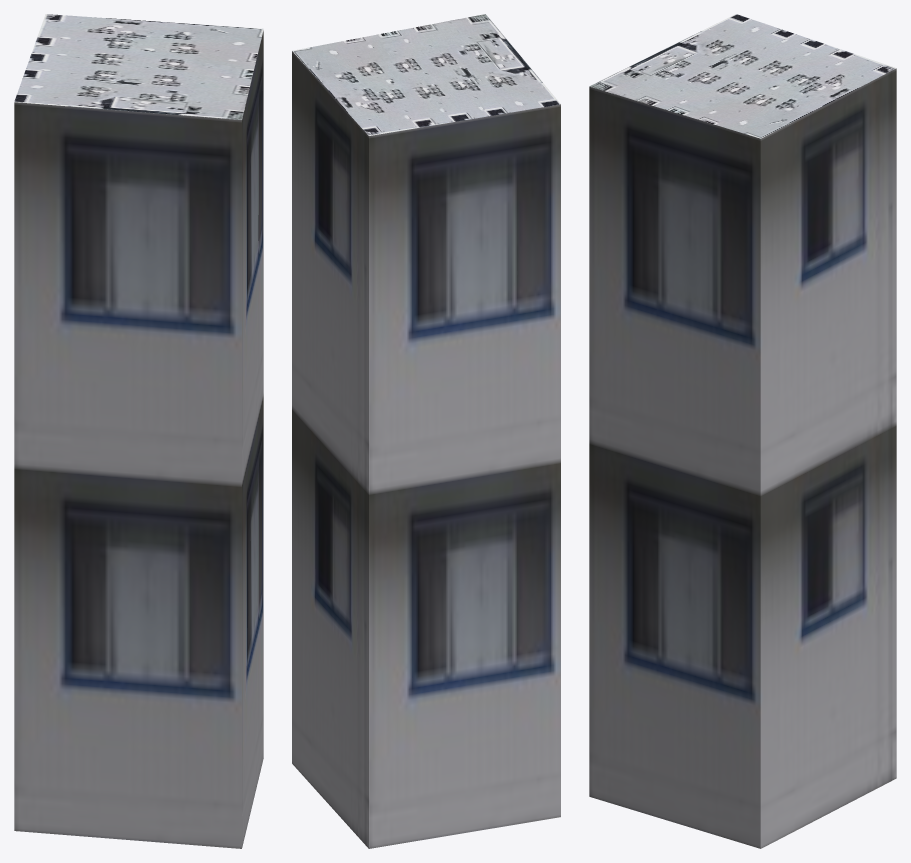
File: ResTex__2740.fbx
3 renders of one model, left to right at view 1: azimuth 30°, elevation 25°; view 2: azimuth 150°, elevation 25°; view 3: azimuth 270°, elevation 25°, orthographic. The views are drawn at different scales.
Visible parts, largest first — view 1: CityEngineMaterial_9_m, CityEngineMaterial_m; view 2: CityEngineMaterial_9_m, CityEngineMaterial_m; view 3: CityEngineMaterial_9_m, CityEngineMaterial_m.
Boxes of the visible parts, x1,y1,x2,y2 form: CityEngineMaterial_9_m: (14, 30, 263, 848); CityEngineMaterial_m: (14, 14, 263, 119); CityEngineMaterial_9_m: (292, 51, 560, 848); CityEngineMaterial_m: (292, 14, 560, 135); CityEngineMaterial_9_m: (589, 68, 896, 848); CityEngineMaterial_m: (589, 14, 896, 138).
Bounding box in the file's own units: 2.26 × 6 × 2.36.
Materials: 2 (2 with a texture image).
